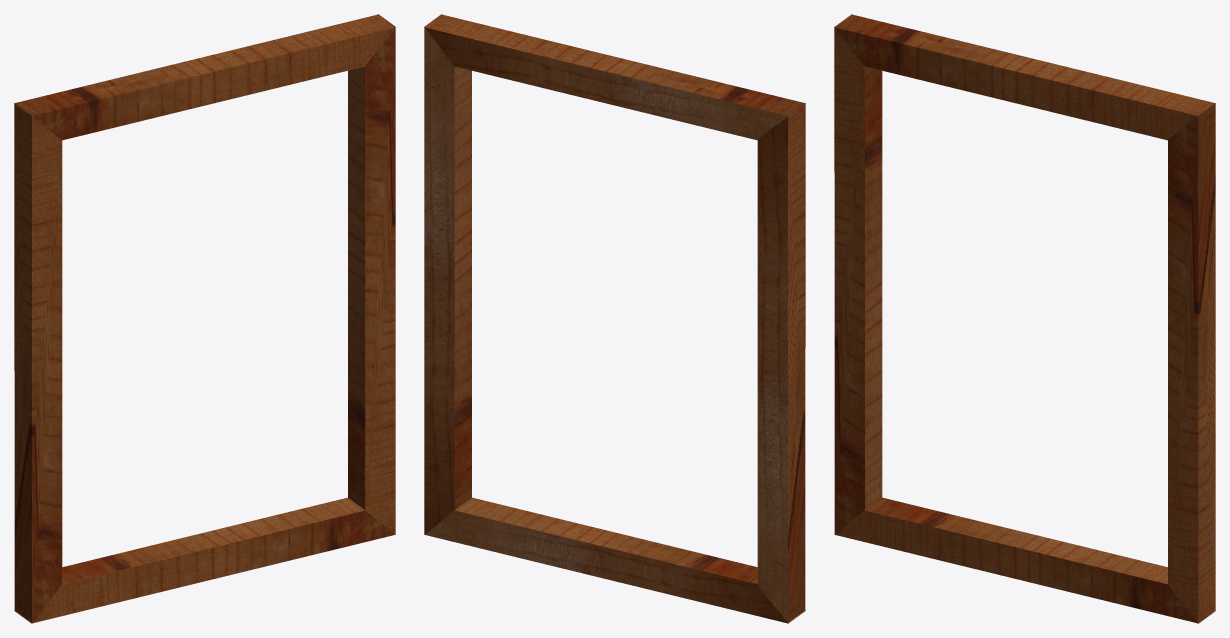
The model's file is baguette.gltf.
The picture shows the model from 3 angles, left to right: view 1: azimuth 30°, elevation 25°; view 2: azimuth 150°, elevation 25°; view 3: azimuth 330°, elevation 25°; orthographic projection.
Visible parts, largest first — view 1: Cube.003, Cube.005, Cube.002, Cube.001; view 2: Cube.003, Cube.005, Cube.002, Cube.001; view 3: Cube.005, Cube.003, Cube.002, Cube.001.
Boxes of the visible parts, <box> form: Cube.003: <box>14,103,62,623</box>; Cube.005: <box>348,14,395,533</box>; Cube.002: <box>14,14,395,140</box>; Cube.001: <box>14,497,395,623</box>; Cube.003: <box>757,103,805,623</box>; Cube.005: <box>424,14,471,534</box>; Cube.002: <box>424,14,805,140</box>; Cube.001: <box>425,497,805,623</box>; Cube.005: <box>1168,103,1215,623</box>; Cube.003: <box>834,14,882,534</box>; Cube.002: <box>835,14,1215,140</box>; Cube.001: <box>835,497,1214,623</box>.
Bounding box in the file's own units: 24 × 32 × 2.
Materials: 1 (1 with a texture image).
